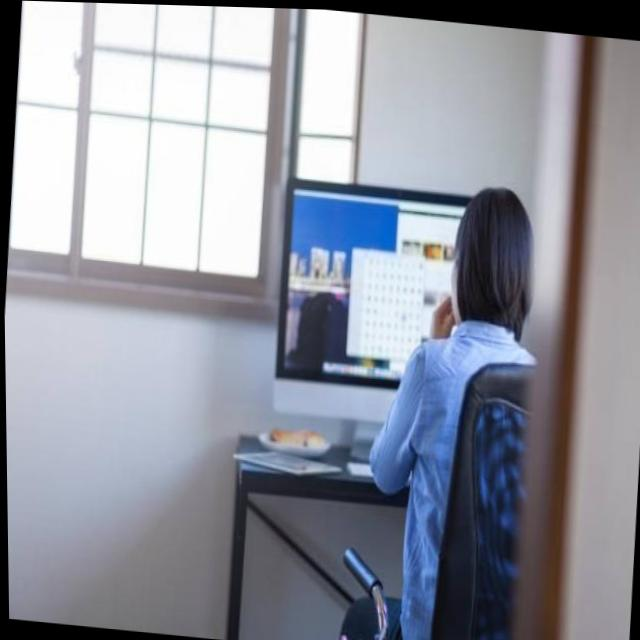no helmet: (423, 142, 551, 388)
